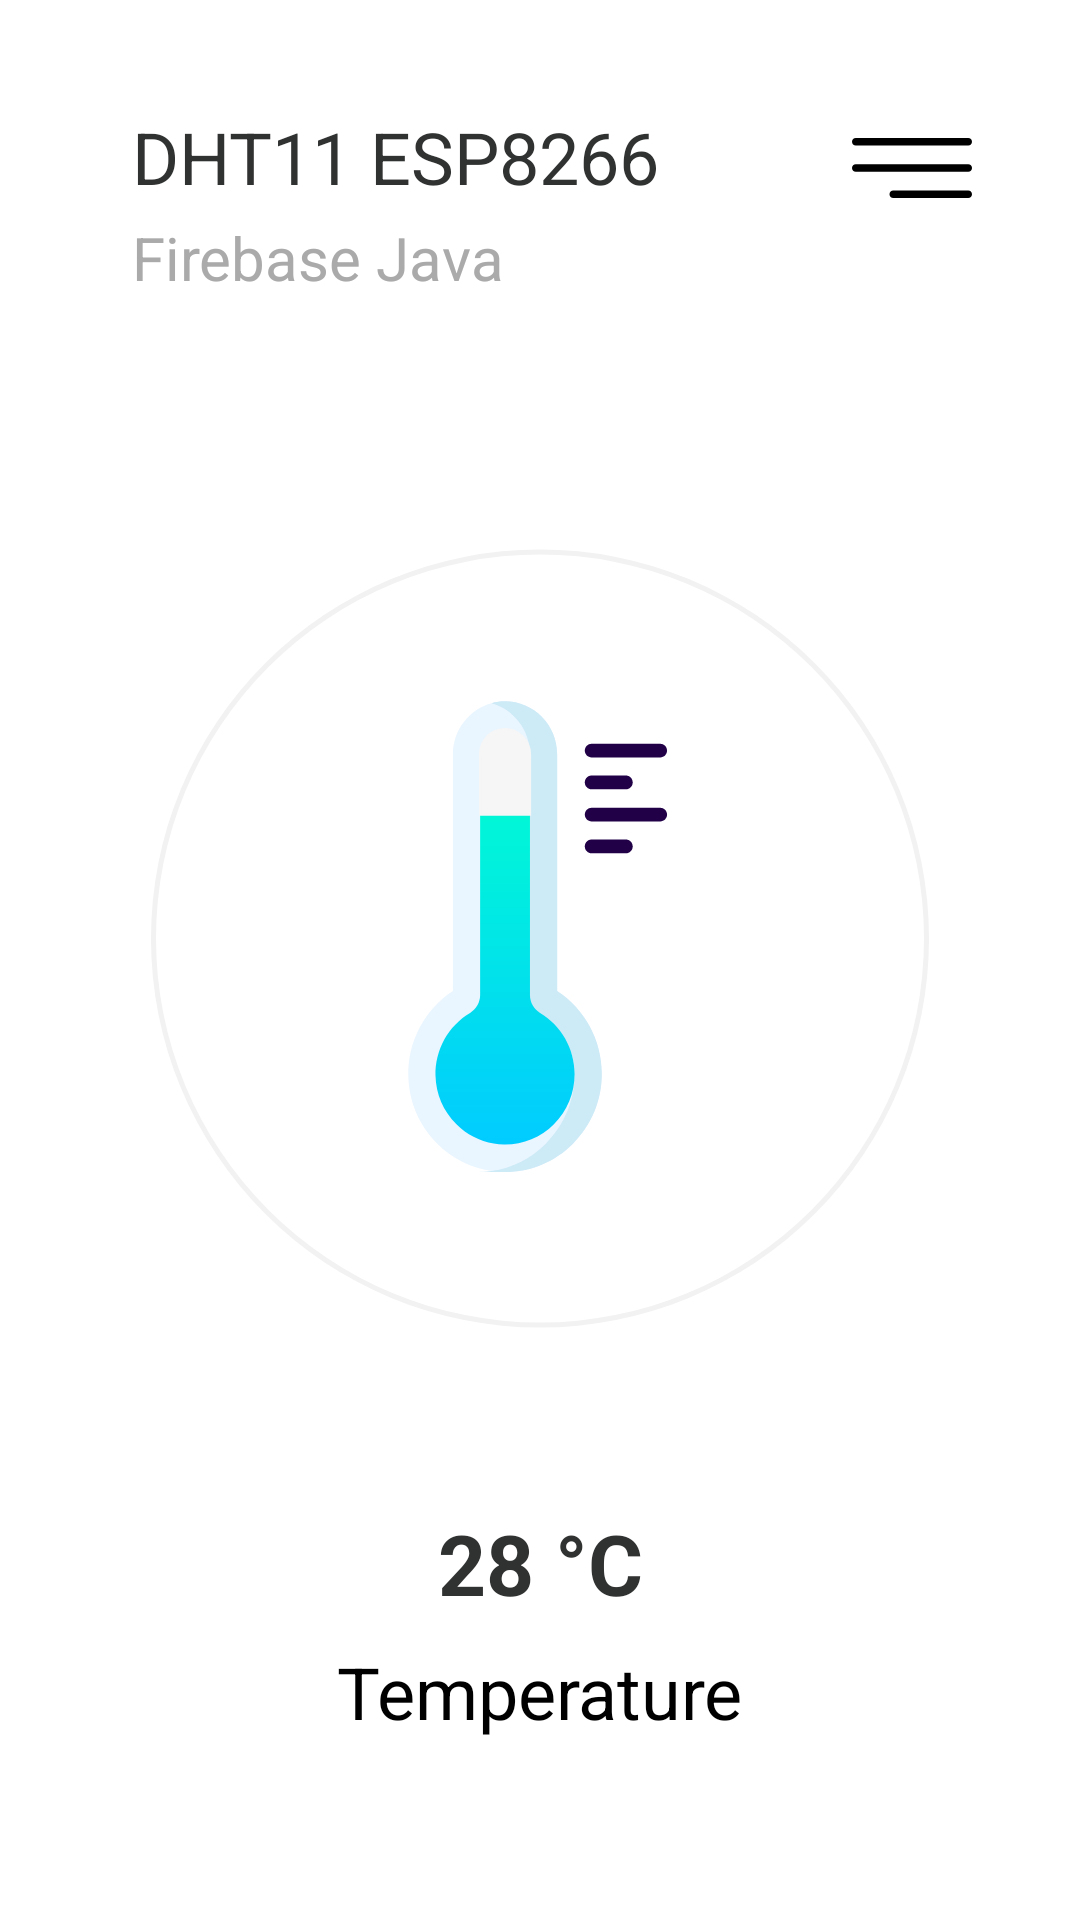

Named icons in this screenshot (1080px×1920px) and their centers, [x,y]:
menu: [912,168]
